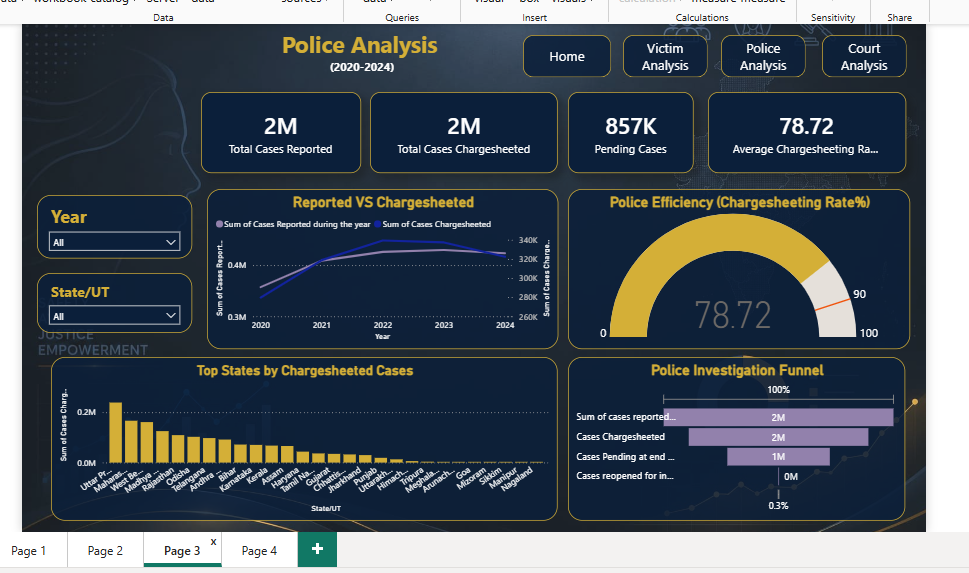

What the dashboard file says about the page in this screenshot:
{"tool":"powerbi","page":{"name":"Page 3","canvas":[1280,720],"ordinal":2},"visuals":[{"type":"textbox","box":[253.3,1.7,456.7,86.7],"z":0},{"type":"cardVisual","fields":{"Data":["Acts_Data.Total Cases Reported"]},"box":[253.7,96.4,226.8,114.8],"z":2000},{"type":"cardVisual","fields":{"Data":["Acts_Data.Avg Chargesheeting Rate"]},"box":[972.3,96.4,280.6,114.8],"z":3000},{"type":"slicer","fields":{"Values":["Acts_Data.Year"]},"box":[21.7,241.7,220,90],"z":4000},{"type":"slicer","fields":{"Values":["Dim_State.State/UT"]},"box":[21.7,353.3,220,85],"z":5000},{"type":"shape","box":[710,15,125,60],"z":6000},{"type":"shape","box":[851.7,15,120,60],"z":7000},{"type":"shape","box":[990,15,120,60],"z":8000},{"type":"shape","box":[1133.3,15,120,60],"z":9000},{"type":"cardVisual","fields":{"Data":["Acts_Data.Pending Cases"]},"box":[773.3,96.7,178.3,115],"z":10000},{"type":"cardVisual","fields":{"Data":["Acts_Data.Total Chargesheeted"]},"box":[493.2,96.4,266.5,114.8],"z":11000},{"type":"lineChart","title":"Reported VS Chargesheeted","fields":{"Category":["police_state_wise.Year"],"Y":["Sum(police_state_wise.Cases Reported during the year)"],"Y2":["Sum(police_state_wise.Cases Chargesheeted )"]},"box":[261.7,233.3,498.3,226.7],"z":12000},{"type":"clusteredColumnChart","title":"Top States by Chargesheeted  Cases","fields":{"Category":["police_state_wise.State/UT"],"Y":["Sum(police_state_wise.Cases Chargesheeted )"]},"box":[41.7,471.7,718.3,231.7],"z":13000},{"type":"gauge","title":"Police Efficiency (Chargesheeting Rate%)","fields":{"Y":["Avg(police_state_wise.Chargesheeting Rate )"],"MinValue":["Acts_Data.min"],"MaxValue":["Acts_Data.max"],"TargetValue":["Acts_Data.target"]},"box":[773.3,233.3,485,226.7],"z":14000},{"type":"funnel","title":"Police Investigation Funnel","fields":{"Category":["police funnel table.stage"],"Y":["Sum(police funnel table.cases)"]},"box":[773.3,471.7,478.3,231.7],"z":15000}]}

Visuals, with their boxes on the page's 1280x720 design canvas (x1, y1, x2, y2). These are canvas units, not pixel positions in the 969x573 screenshot, which may show the page scaled, cropped or inside an application window:
textbox: 253 2 710 88
cardVisual - Acts_Data.Total Cases Reported: 254 96 480 211
cardVisual - Acts_Data.Avg Chargesheeting Rate: 972 96 1253 211
slicer - Acts_Data.Year: 22 242 242 332
slicer - Dim_State.State/UT: 22 353 242 438
shape: 710 15 835 75
shape: 852 15 972 75
shape: 990 15 1110 75
shape: 1133 15 1253 75
cardVisual - Acts_Data.Pending Cases: 773 97 952 212
cardVisual - Acts_Data.Total Chargesheeted: 493 96 760 211
"Reported VS Chargesheeted" lineChart: 262 233 760 460
"Top States by Chargesheeted  Cases" clusteredColumnChart: 42 472 760 703
"Police Efficiency (Chargesheeting Rate%)" gauge: 773 233 1258 460
"Police Investigation Funnel" funnel: 773 472 1252 703
